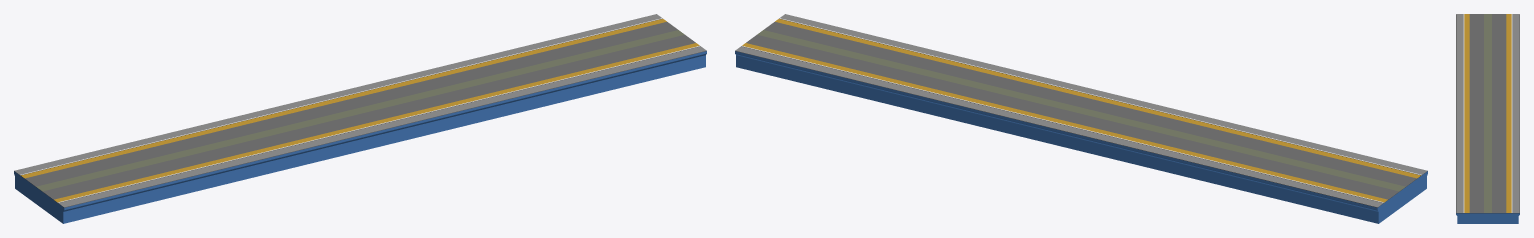
Rendered from zhantaitai.fbx.
3 renders of one model, left to right at view 1: azimuth 30°, elevation 25°; view 2: azimuth 150°, elevation 25°; view 3: azimuth 270°, elevation 25°, orthographic. The views are drawn at different scales.
Visible parts, largest first — view 1: ZhanTai; view 2: ZhanTai; view 3: ZhanTai.
Boxes of the visible parts, x1=… form: ZhanTai: x1=14, y1=14, x2=706, y2=223; ZhanTai: x1=735, y1=14, x2=1427, y2=223; ZhanTai: x1=1456, y1=14, x2=1519, y2=223.
Size of the model in its own units: 7795 by 203 by 1059.
